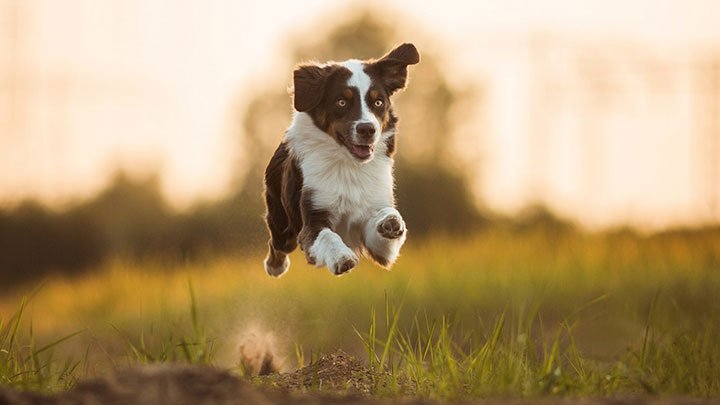dog: (254, 36, 437, 297)
